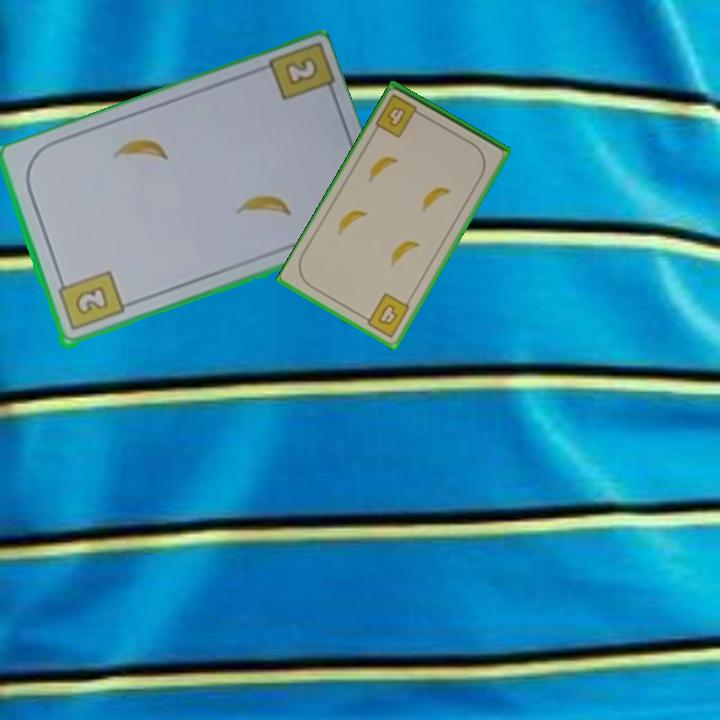2b: (54, 268, 126, 334), (280, 53, 321, 89)
4b: (359, 289, 413, 341), (372, 90, 427, 141)
